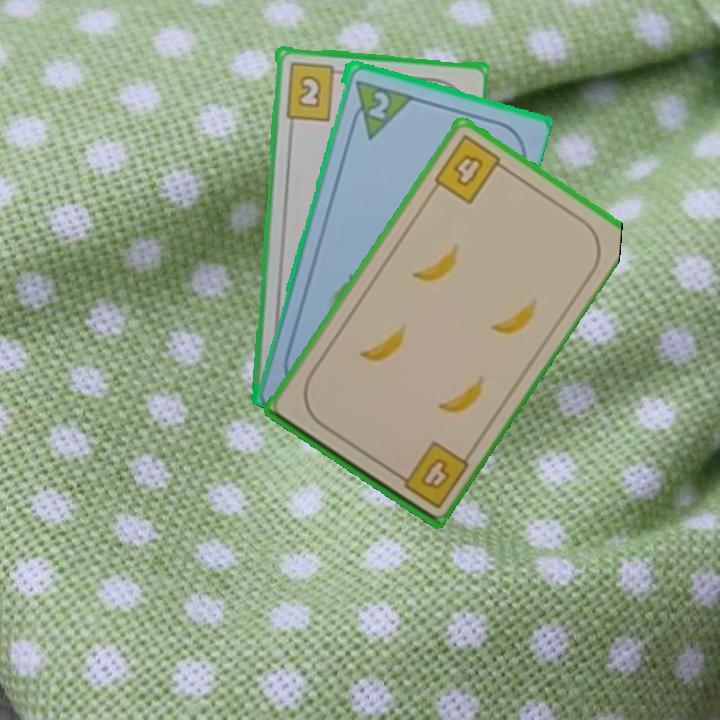2b: (282, 58, 346, 122)
2p: (364, 87, 392, 122)
4b: (389, 436, 471, 512), (430, 131, 511, 207)
